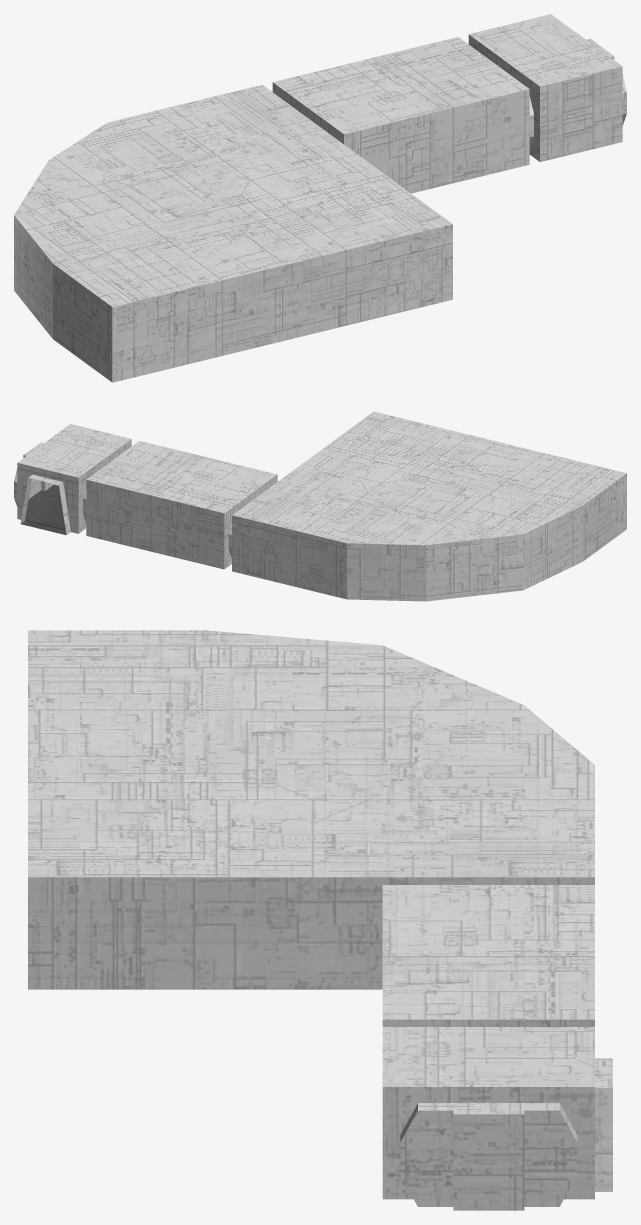
The model's file is thm_spc_star_destroyer_s01_r11_flightctrl_mesh_r11.fbx.
The picture shows the model from 3 angles, top to bottom: view 1: azimuth 30°, elevation 25°; view 2: azimuth 150°, elevation 25°; view 3: azimuth 270°, elevation 25°; orthographic projection. The views are drawn at different scales.
Visible parts, largest first — view 1: mesh_node; view 2: mesh_node; view 3: mesh_node.
Part boxes in pixels (x1=…): mesh_node: x1=14, y1=14, x2=626, y2=382; mesh_node: x1=14, y1=411, x2=626, y2=601; mesh_node: x1=28, y1=630, x2=612, y2=1210.
Bounding box in the file's own units: 31.25 × 3.5 × 16.5.
Materials: 2 (2 with a texture image).
